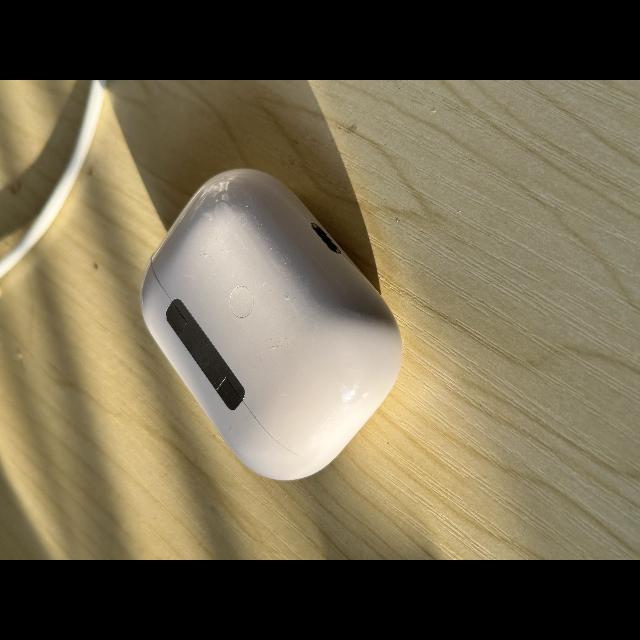AirPods Pro: (141, 168, 402, 480)
